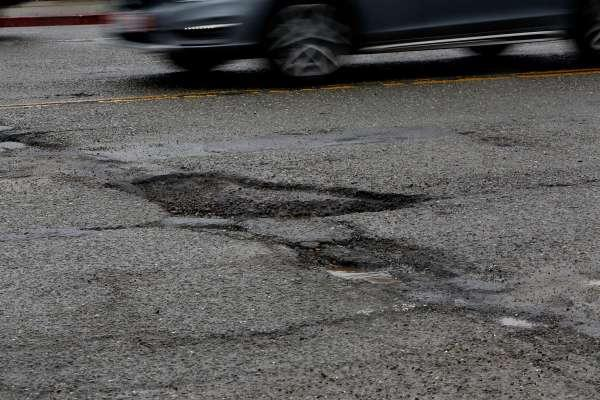Pothole: (99, 142, 464, 308)
